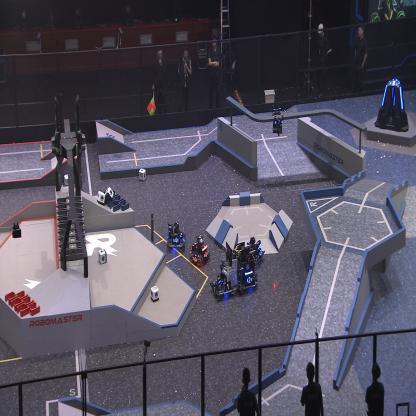car: (209, 242, 238, 299), (233, 242, 258, 294), (189, 236, 210, 268), (166, 221, 185, 252), (246, 236, 264, 268)
